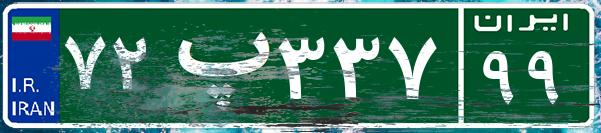2: (110, 28, 158, 105)
3: (273, 28, 330, 110), (330, 28, 385, 110)
7: (385, 28, 445, 110), (57, 26, 110, 107)
9: (475, 38, 525, 113), (525, 38, 570, 115)
پ: (158, 15, 273, 115)
